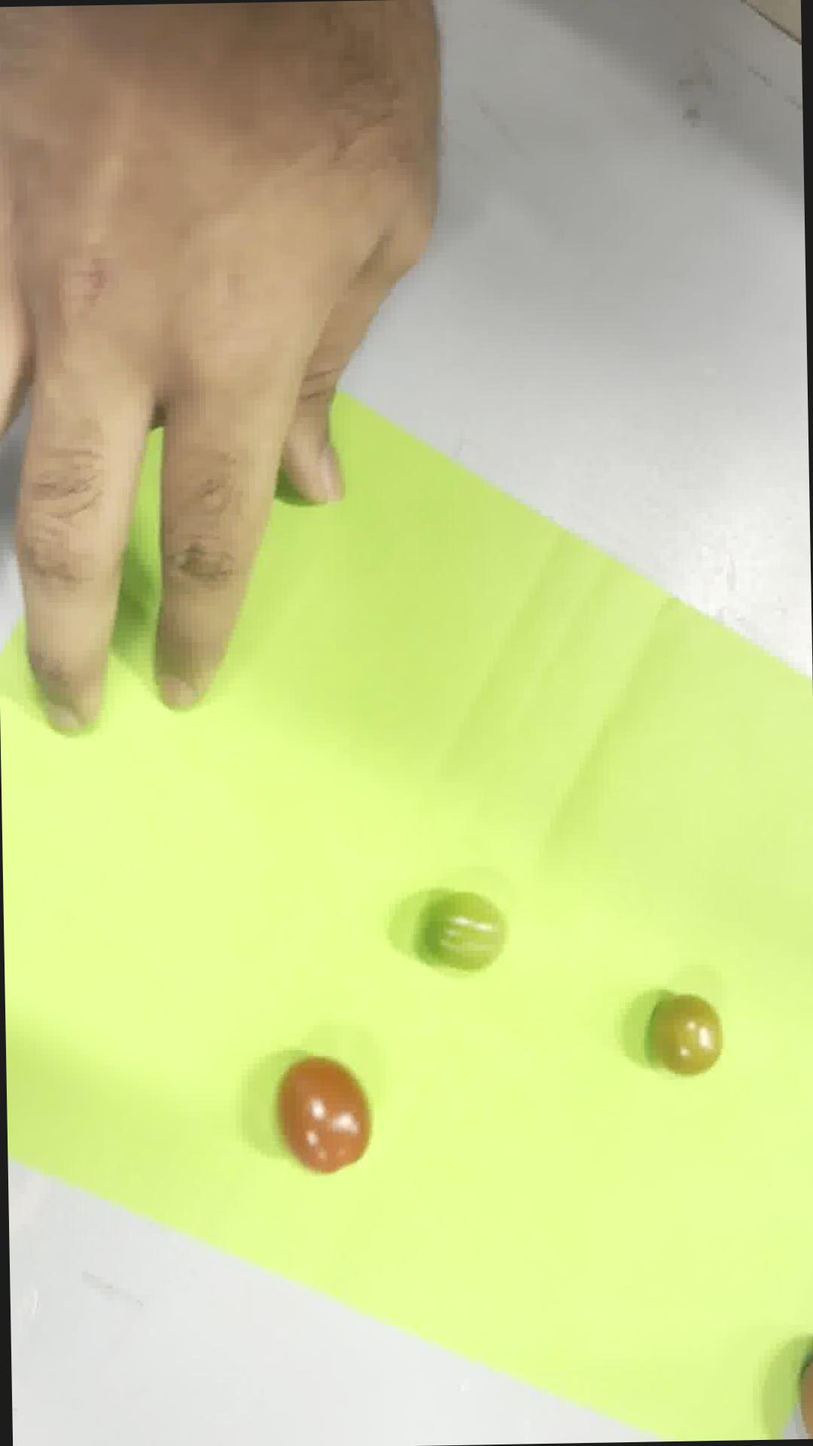green_cherry_tomato: (424, 891, 506, 968)
red_cherry_tomato: (276, 1057, 370, 1173)
yellow_cherry_tomato: (650, 994, 722, 1074)
